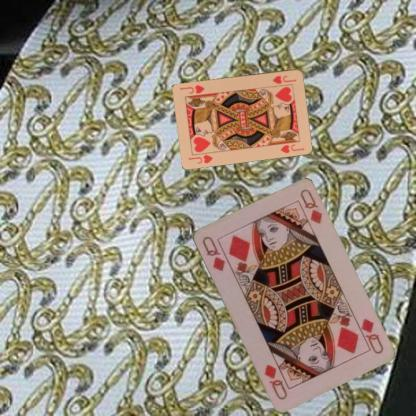Jh: (186, 152, 214, 165), (270, 73, 297, 85)
Qd: (352, 315, 385, 356), (199, 233, 226, 273)
